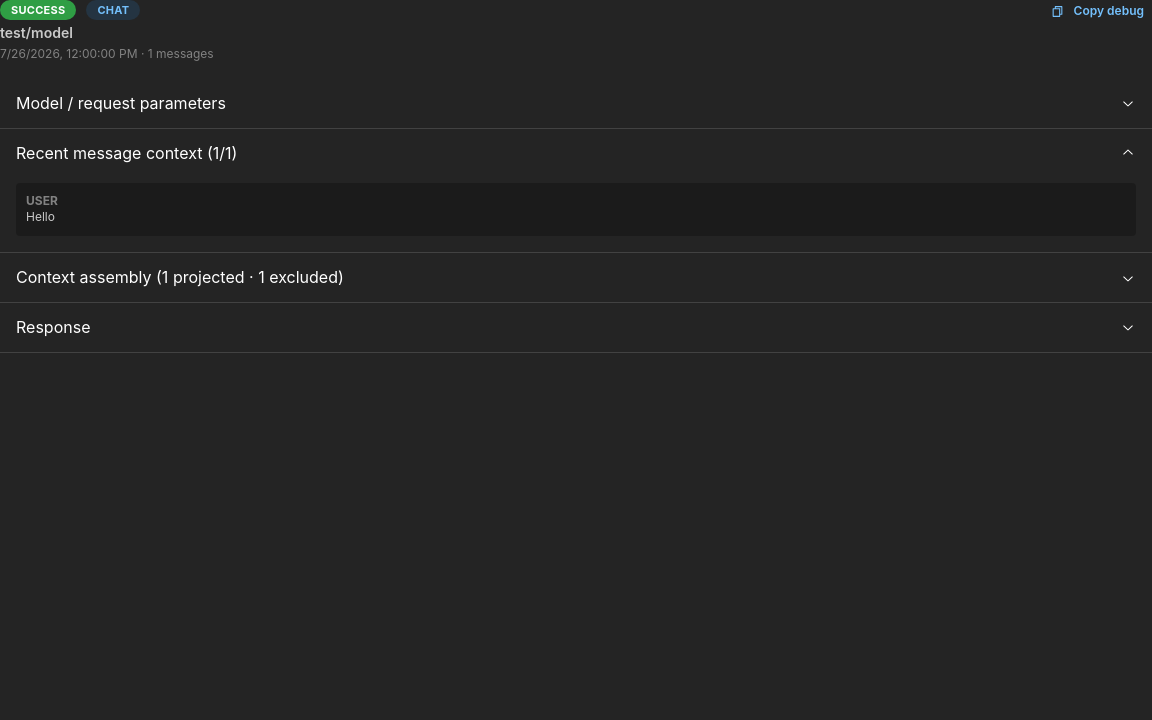
it: RequestInspection › shows context assembly counts and details when a trace is available
Click the button "Context assembly (1 projected · 1 excluded)".
click(89, 277)  # box [0,253,1151,302]
(page scrolled)
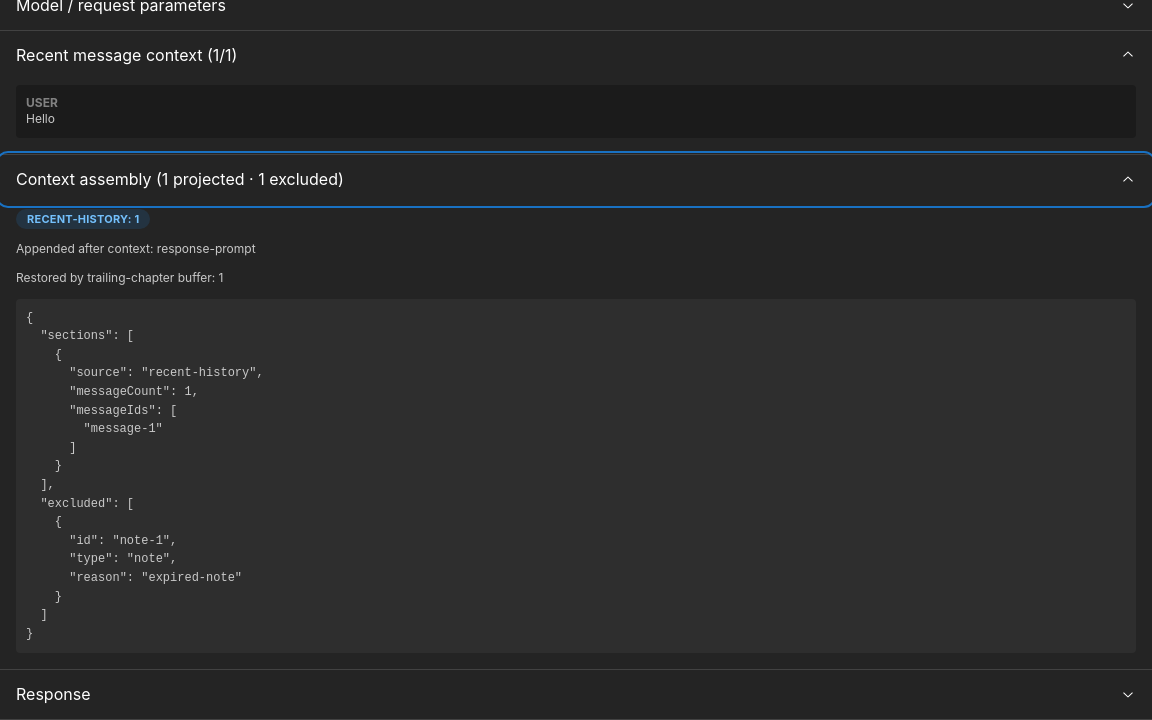
expect the text "recent-history: 1" is shown: met, box [27,210,140,228]
expect the text "Appended after context: response-prompt" is shown: met, box [16,241,256,256]
expect the text "Restored by trailing-chapter buffer: 1" is shown: met, box [16,270,224,285]
